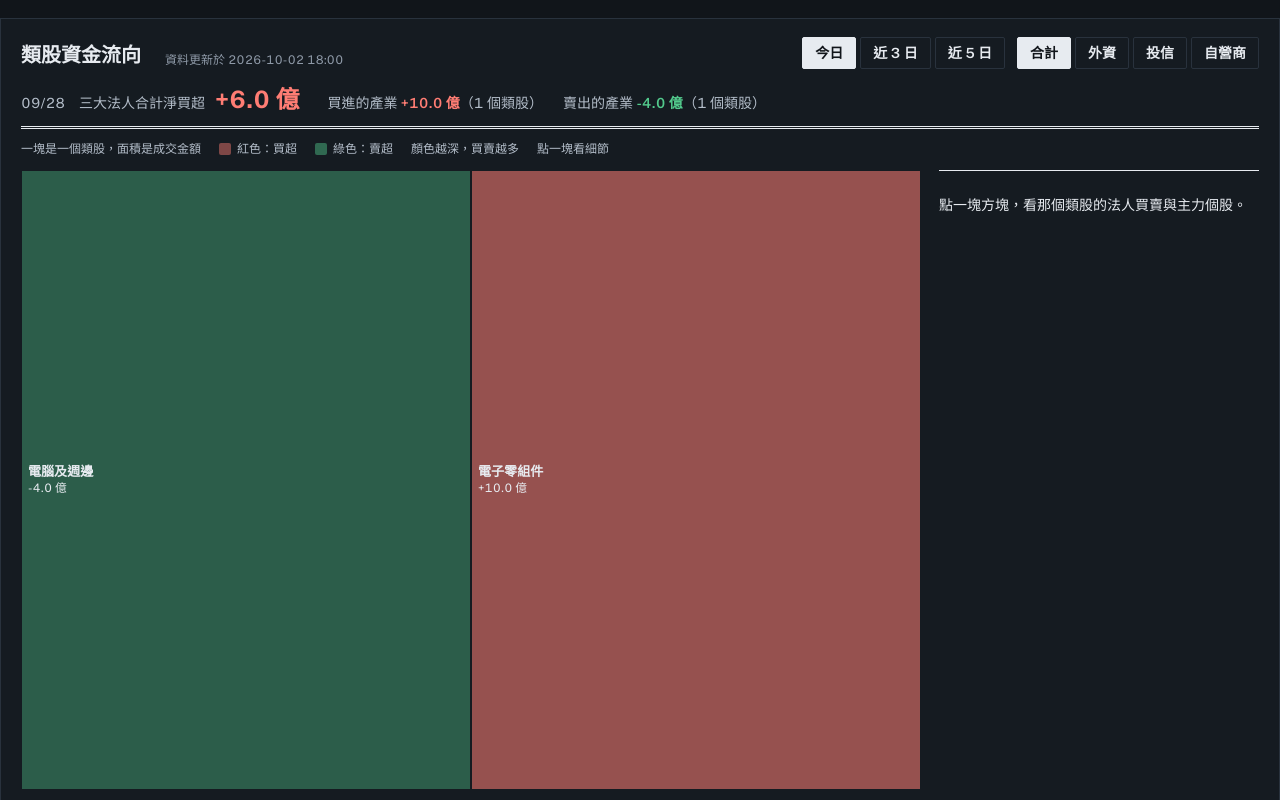
Test case: SectorFlowPage: the day › takes only the last three of five days for 近 3 日, and all five for 近 5 日
Expected: the heading "類股資金流向" is shown, [21,42,141,69]
Click the button "近 3 日" at (895, 53), box [860,37,931,69]
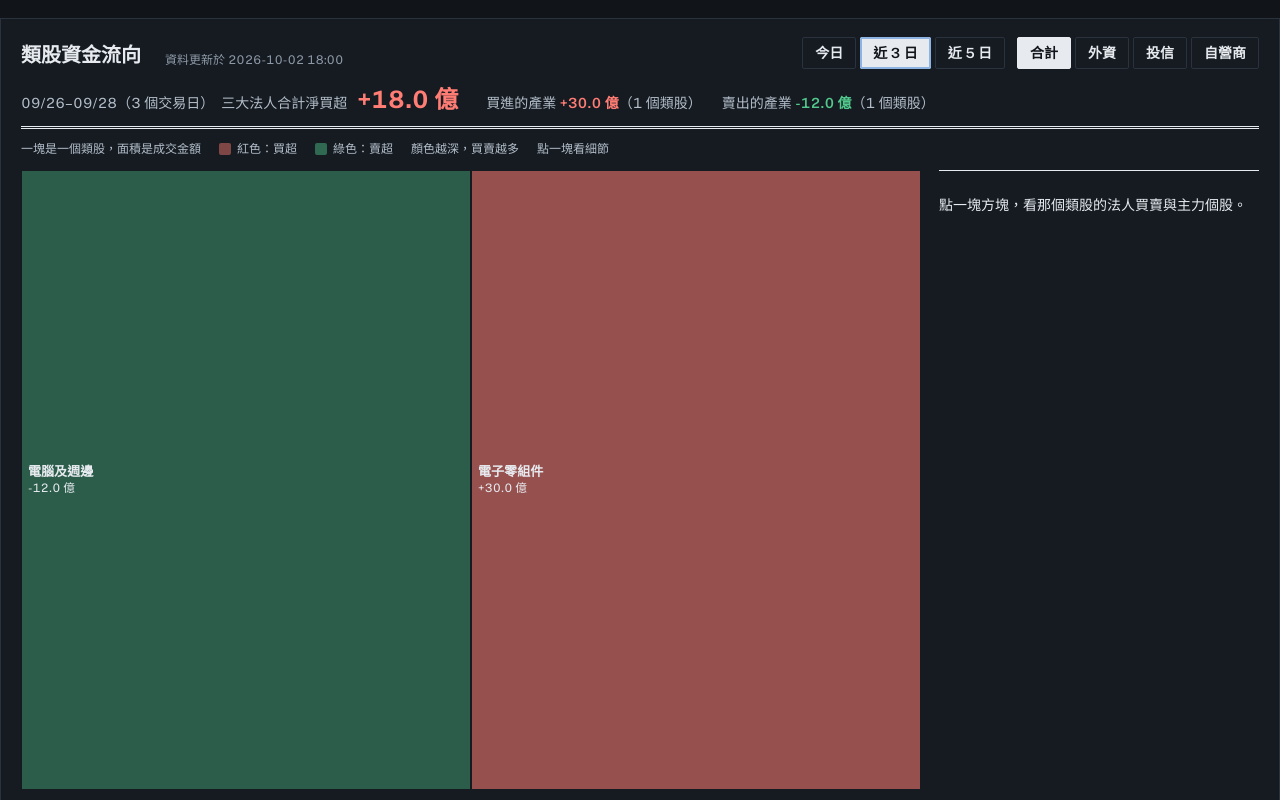
Expected: the text "+18.0 億" is shown, [357,85,458,114]
Click the button "近 5 日" at (970, 53), box [935,37,1005,69]
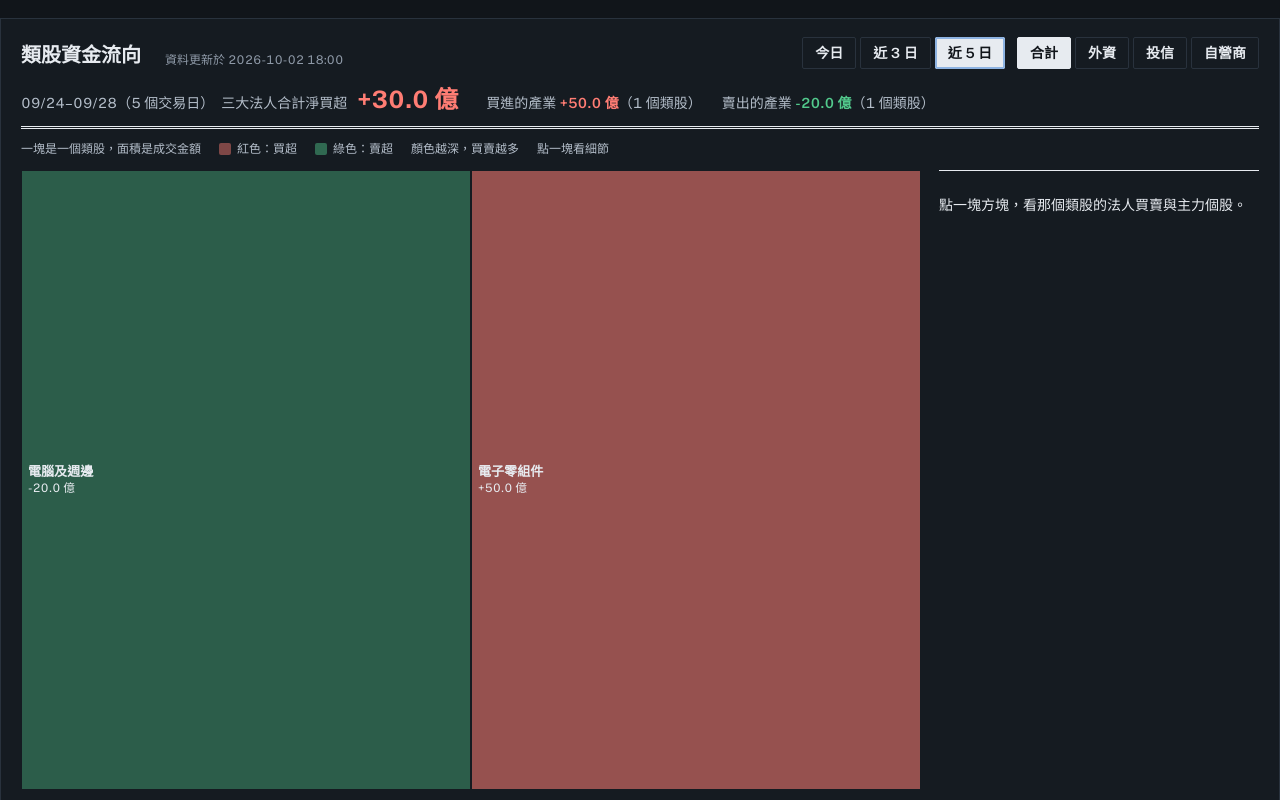
Expected: the text "+30.0 億" is shown, [357,85,458,114]
Click the button "今日" at (829, 53), box [802,37,856,69]
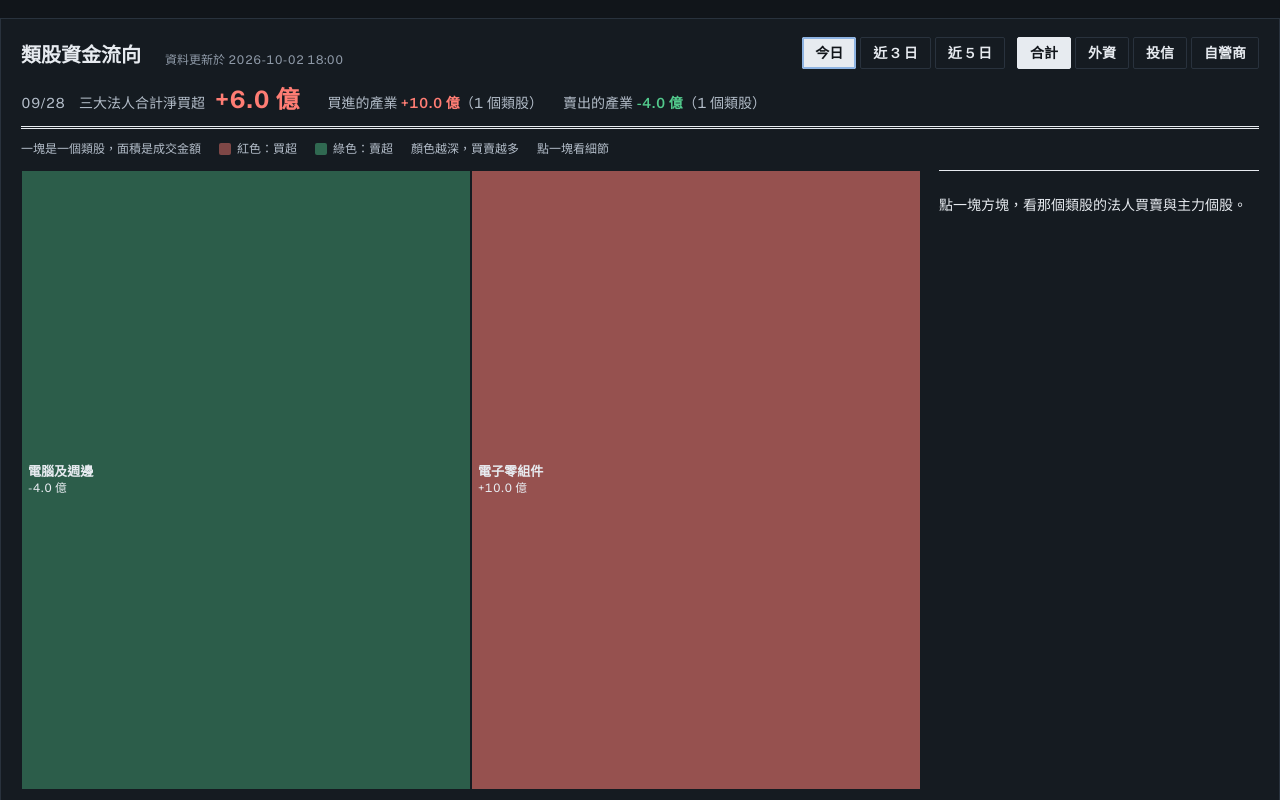
Expected: the text "+6.0 億" is shown, [215,85,299,114]
